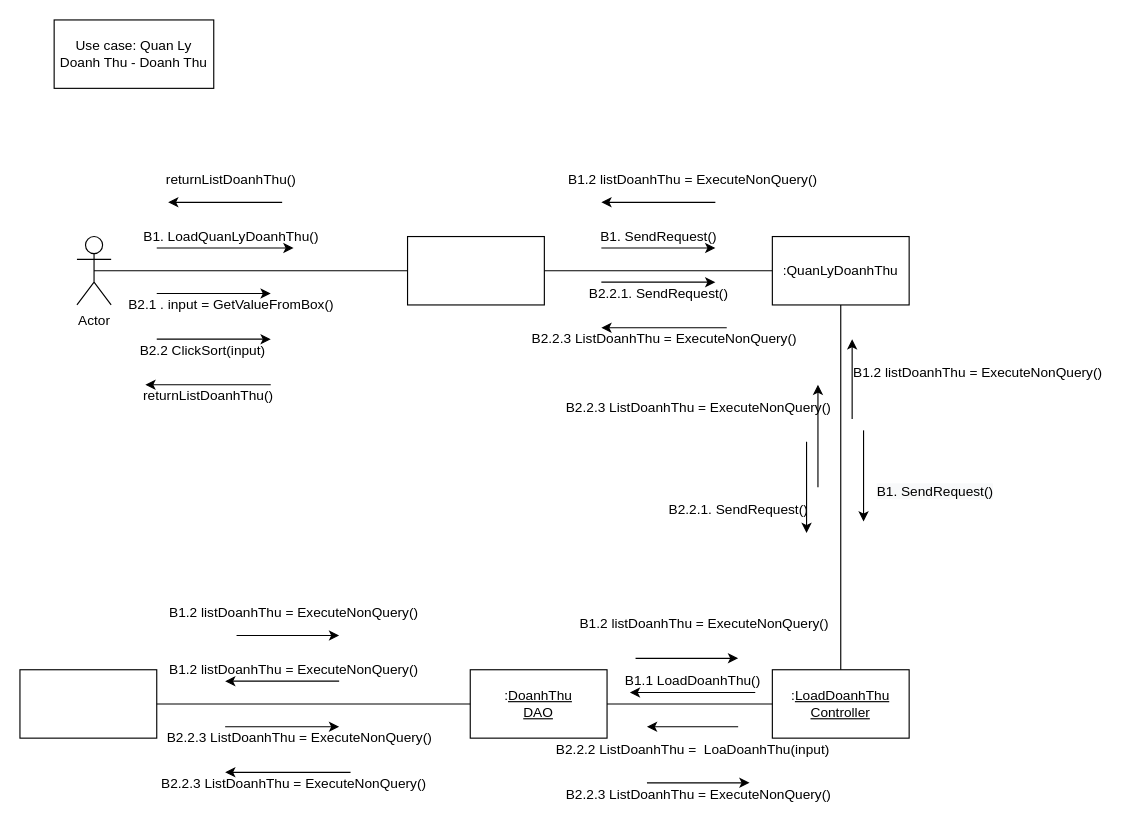
This 1129x827 diagram has some shape labels left out. The centre of each missing label's shape, as x and y in pixels:
: QuanLyDoanhThuUI: point (475, 270)
:Database: point (88, 703)
